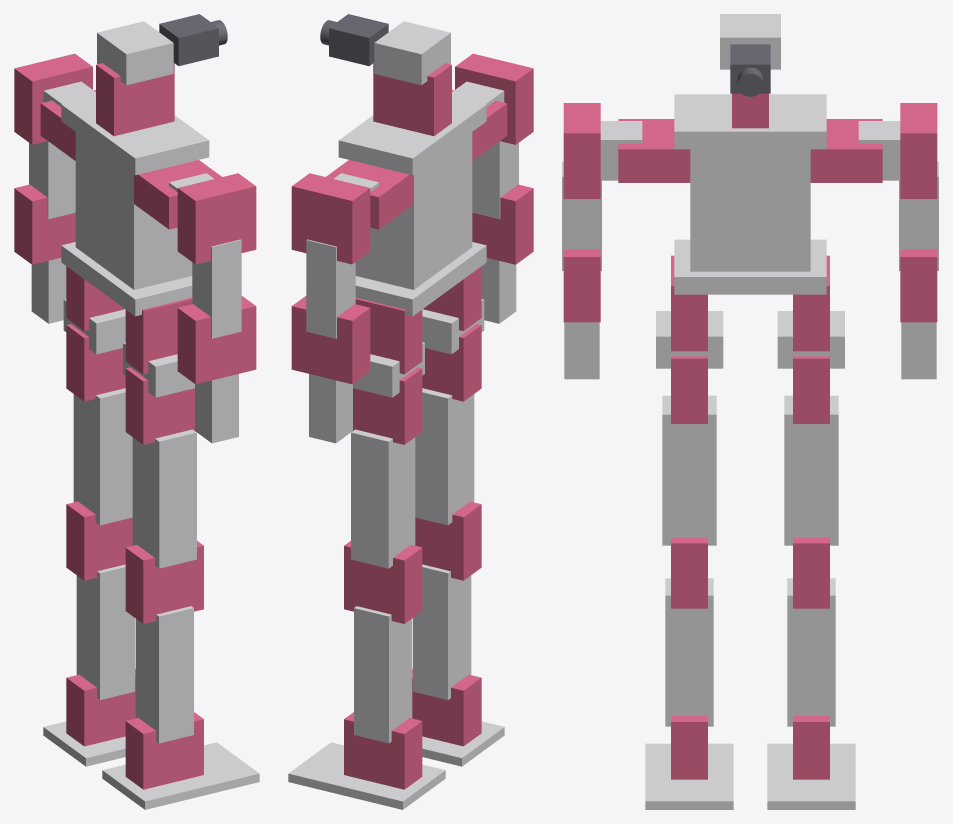
The model's file is humanoid.glb.
3 views of the same model, side by side, from view 1: azimuth 30°, elevation 25°; view 2: azimuth 150°, elevation 25°; view 3: azimuth 270°, elevation 25° (orthographic). The views are drawn at different scales.
Parts seen in each view (by area): view 1: Torso_Main, R_Thigh_Structure, R_Shin_Structure, L_Thigh_Structure, L_Shin_Structure, R_Shoulder2, Torso_Top_Plate, R_Elbow, R_Knee, Head_Servo, R_Ankle, R_Foot (+21 smaller); view 2: Torso_Main, L_Thigh_Structure, L_Shin_Structure, R_Thigh_Structure, R_Shin_Structure, L_Shoulder2, Torso_Top_Plate, L_Elbow, L_Knee, Head_Servo, L_Ankle, L_Foot (+21 smaller); view 3: Torso_Main, Torso_Top_Plate, L_Thigh_Structure, R_Thigh_Structure, L_Shin_Structure, R_Shin_Structure, Torso_Bot_Plate, L_Foot, R_Foot, L_Shoulder1, R_Shoulder1, L_Shoulder2 (+22 smaller).
Boxes of the visible parts, left/top/right/bottom form: Torso_Main: left=75, top=132, right=192, bottom=289; R_Thigh_Structure: left=132, top=429, right=196, bottom=568; R_Shin_Structure: left=135, top=606, right=193, bottom=743; L_Thigh_Structure: left=73, top=388, right=132, bottom=525; L_Shin_Structure: left=76, top=564, right=134, bottom=699; R_Shoulder2: left=177, top=173, right=256, bottom=264; Torso_Top_Plate: left=61, top=96, right=209, bottom=175; R_Elbow: left=177, top=296, right=256, bottom=384; R_Knee: left=125, top=541, right=203, bottom=623; Head_Servo: left=96, top=63, right=174, bottom=136; R_Ankle: left=125, top=712, right=203, bottom=789; R_Foot: left=102, top=742, right=259, bottom=809; Torso_Main: left=355, top=132, right=472, bottom=289; L_Thigh_Structure: left=351, top=429, right=415, bottom=568; L_Shin_Structure: left=354, top=606, right=412, bottom=743; R_Thigh_Structure: left=415, top=388, right=474, bottom=525; R_Shin_Structure: left=413, top=564, right=471, bottom=699; L_Shoulder2: left=291, top=173, right=370, bottom=264; Torso_Top_Plate: left=338, top=96, right=486, bottom=175; L_Elbow: left=291, top=296, right=370, bottom=384; L_Knee: left=344, top=541, right=422, bottom=623; Head_Servo: left=373, top=63, right=451, bottom=136; L_Ankle: left=344, top=712, right=422, bottom=789; L_Foot: left=288, top=742, right=445, bottom=809; Torso_Main: left=690, top=149, right=810, bottom=271; Torso_Top_Plate: left=674, top=94, right=826, bottom=149; L_Thigh_Structure: left=784, top=395, right=838, bottom=545; R_Thigh_Structure: left=662, top=395, right=716, bottom=545; L_Shin_Structure: left=787, top=578, right=835, bottom=726; R_Shin_Structure: left=665, top=578, right=713, bottom=726; Torso_Bot_Plate: left=674, top=239, right=826, bottom=294; L_Foot: left=767, top=743, right=855, bottom=809; R_Foot: left=645, top=743, right=733, bottom=809; L_Shoulder1: left=810, top=119, right=882, bottom=182; R_Shoulder1: left=618, top=119, right=690, bottom=182; L_Shoulder2: left=900, top=103, right=937, bottom=198.
Bounding box in the file's own units: 0.0945 × 0.514 × 0.235.
